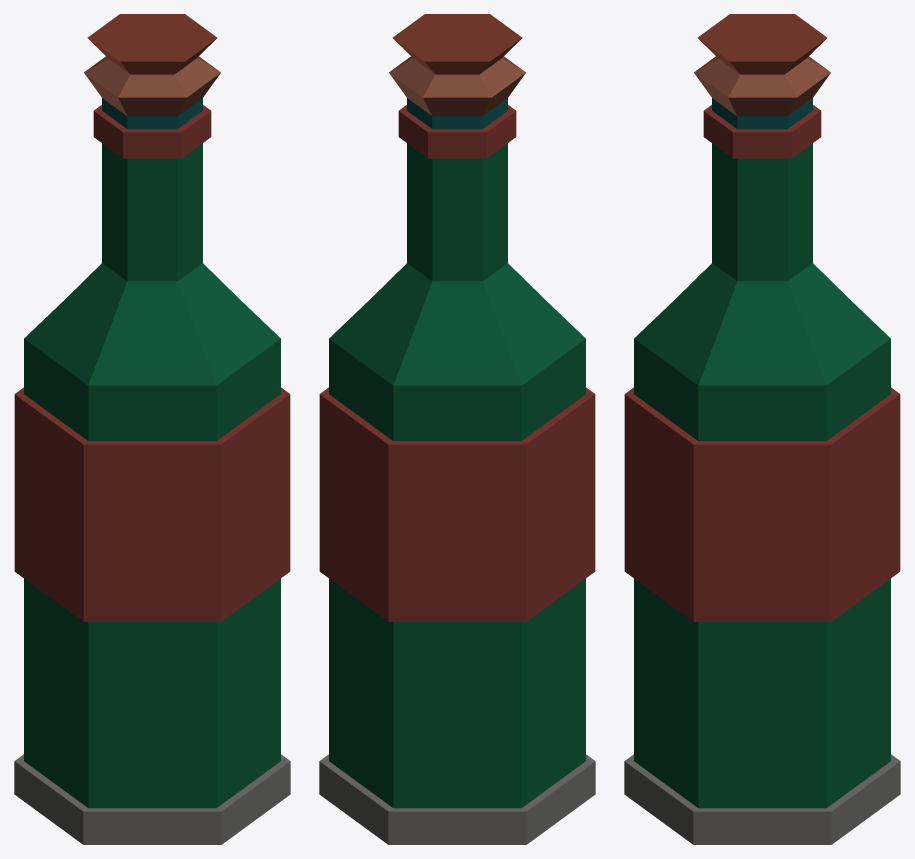
The model's file is Wine Bottle 4.fbx.
The picture shows the model from 3 angles, left to right: view 1: azimuth 30°, elevation 25°; view 2: azimuth 150°, elevation 25°; view 3: azimuth 270°, elevation 25°; orthographic projection.
Visible parts, largest first — view 1: Wine Bottle 4; view 2: Wine Bottle 4; view 3: Wine Bottle 4.
Boxes of the visible parts, x1=… form: Wine Bottle 4: x1=14, y1=14, x2=290, y2=844; Wine Bottle 4: x1=319, y1=14, x2=595, y2=844; Wine Bottle 4: x1=624, y1=14, x2=900, y2=844.
Size of the model in its own units: 0.3404 by 1.19 by 0.3931.
